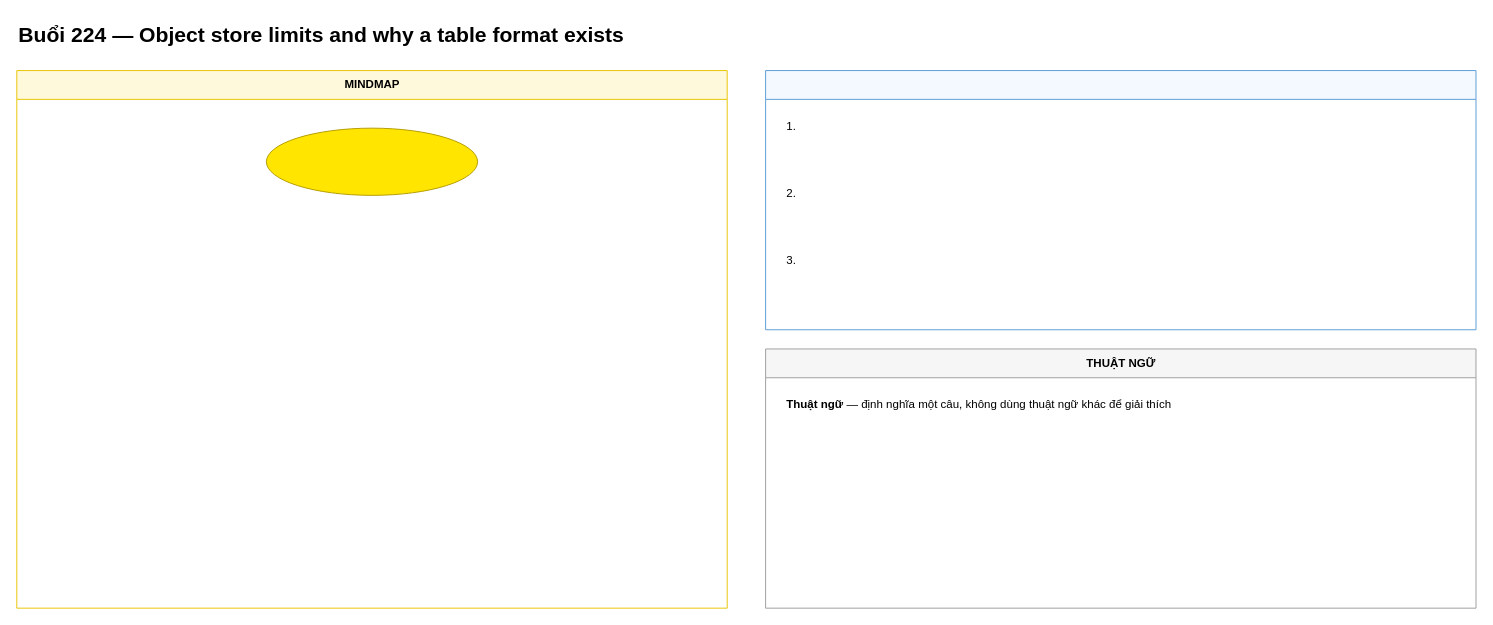
Image size: 1493x625. Some labels were removed from this diagram. The shapes that lost their labels are listed below. From the top down, each one's box as (x1, y1, x2, y2) in pixels, then its label:
(265, 127, 478, 195): Object store limits and why a table format exists
(765, 70, 1476, 330): KEY TAKEAWAY — ba điều phải nhớ
